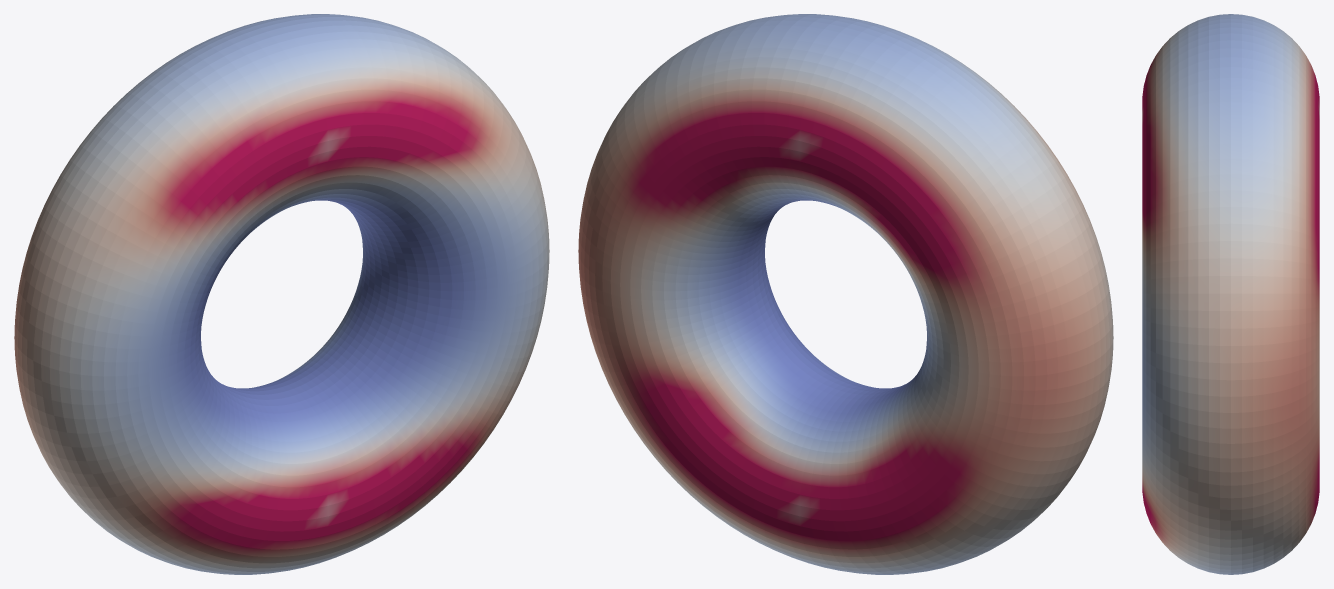
3 renders of one model, left to right at view 1: azimuth 30°, elevation 25°; view 2: azimuth 150°, elevation 25°; view 3: azimuth 270°, elevation 25°, orthographic. The views are drawn at different scales.
Visible parts, largest first — view 1: world; view 2: world; view 3: world.
Boxes of the visible parts, x1,y1,x2,y2 form: world: (14, 14, 549, 574); world: (578, 14, 1113, 574); world: (1142, 14, 1319, 574).
Size of the model in its own units: 21.47 by 21.47 by 6.79.
